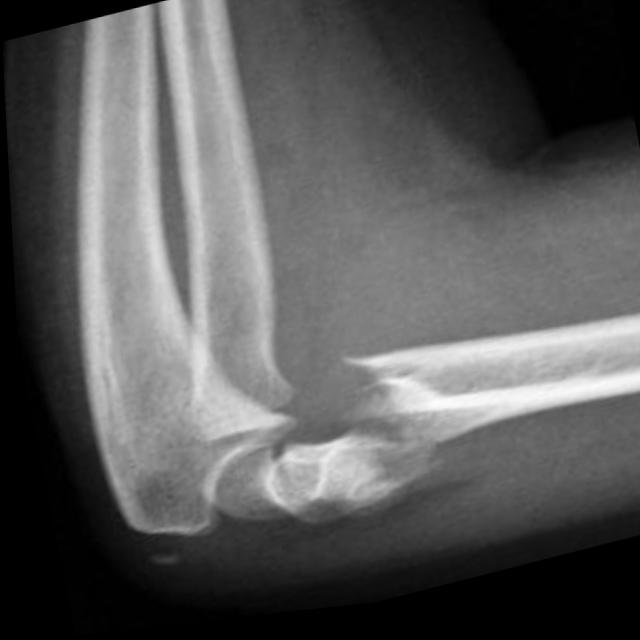fracture: (240, 339, 431, 478)
